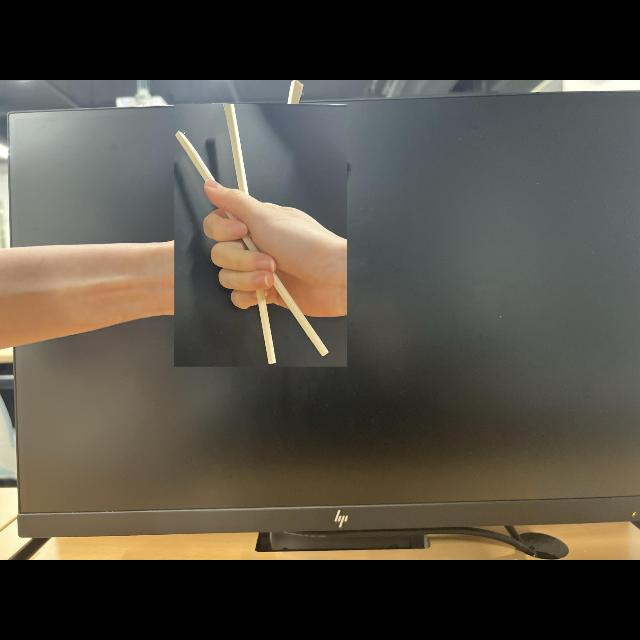stick: (175, 104, 347, 366)
